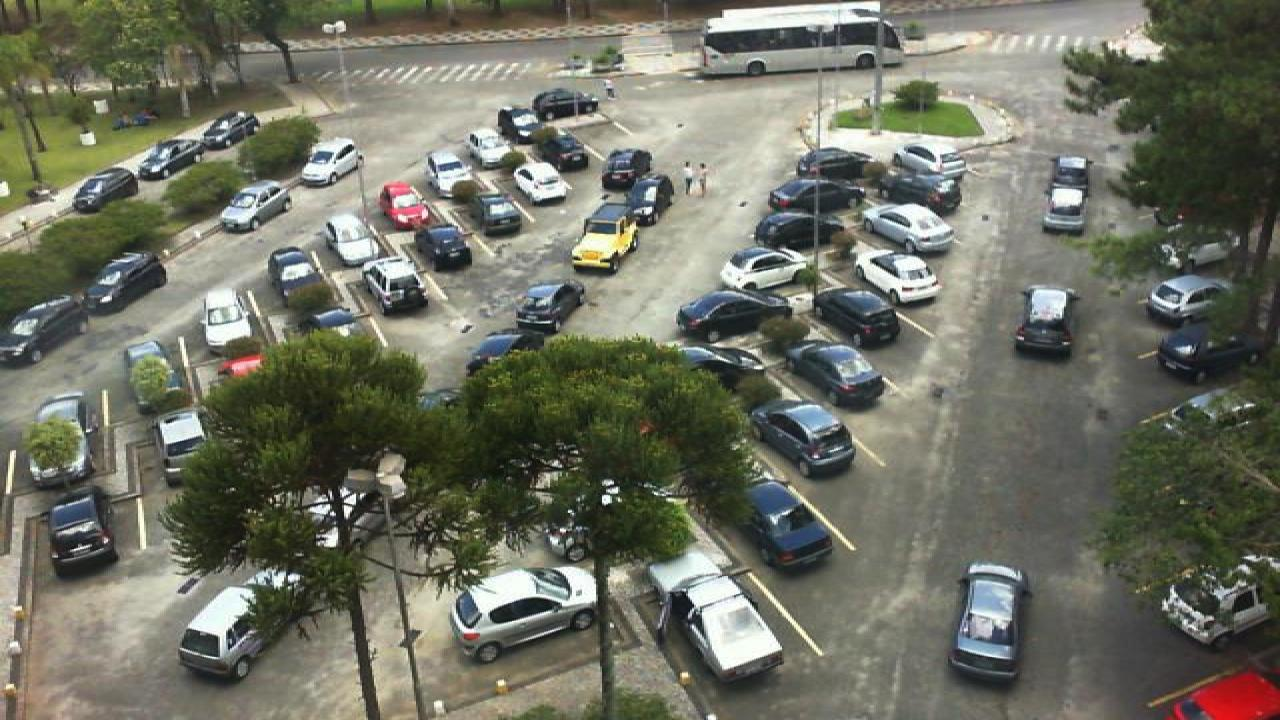Car: (646, 542, 786, 685), (450, 564, 600, 664), (176, 578, 288, 682), (1156, 555, 1276, 650), (948, 560, 1034, 688), (738, 480, 838, 572), (750, 397, 860, 478), (784, 338, 890, 411), (1156, 321, 1272, 387), (22, 392, 96, 487), (46, 490, 122, 578), (672, 289, 792, 343), (2, 296, 86, 366), (814, 287, 904, 349), (84, 251, 168, 315), (122, 338, 188, 418), (858, 202, 958, 254), (718, 244, 824, 293), (1012, 283, 1078, 359), (1142, 272, 1234, 326), (856, 250, 944, 306), (570, 205, 642, 273), (750, 210, 856, 256), (198, 286, 262, 361), (672, 340, 772, 387), (156, 404, 210, 487), (514, 279, 588, 339), (358, 257, 430, 315), (766, 176, 868, 216), (266, 246, 334, 304), (218, 180, 292, 232), (320, 214, 386, 271), (886, 173, 966, 219), (888, 142, 970, 183), (792, 146, 888, 180), (68, 168, 140, 212), (298, 138, 364, 185), (618, 174, 676, 226), (414, 223, 474, 273), (134, 137, 202, 180), (466, 330, 532, 374), (376, 181, 434, 231), (510, 161, 568, 207), (468, 194, 524, 240), (1042, 185, 1092, 235), (424, 150, 478, 196), (534, 126, 590, 170), (602, 148, 656, 192), (302, 304, 366, 341), (466, 129, 522, 171), (496, 108, 552, 150), (202, 110, 260, 148), (530, 87, 598, 119), (1052, 153, 1092, 189)
